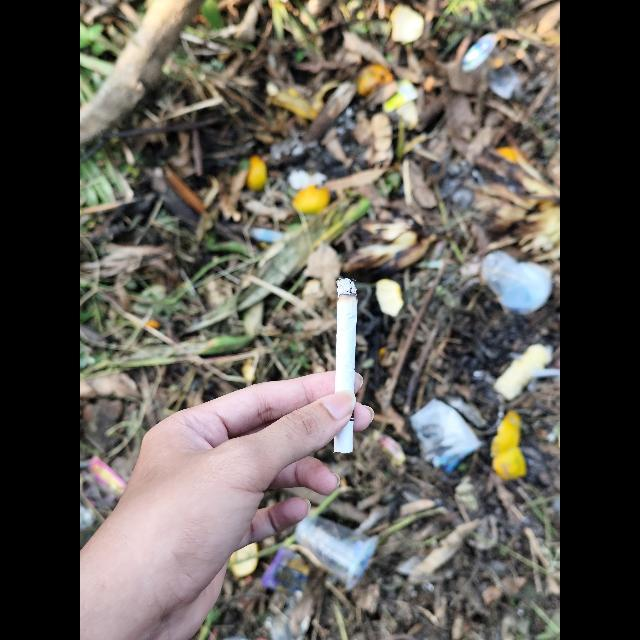rokok: (326, 272, 362, 466)
